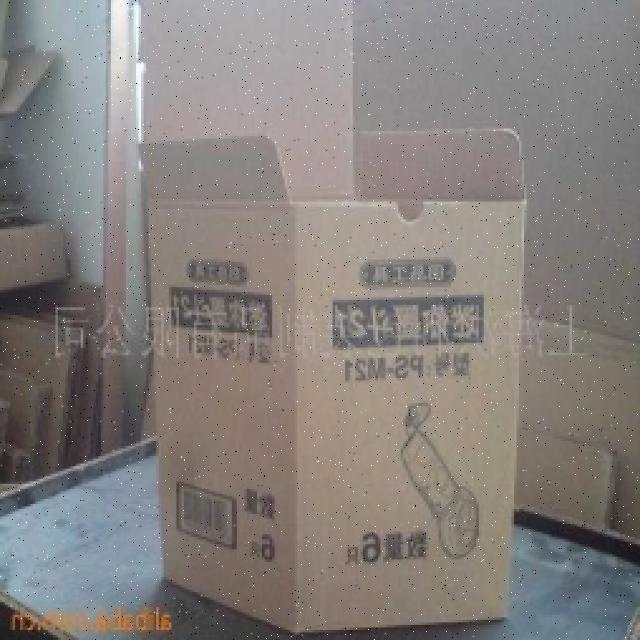box: (148, 119, 535, 636)
